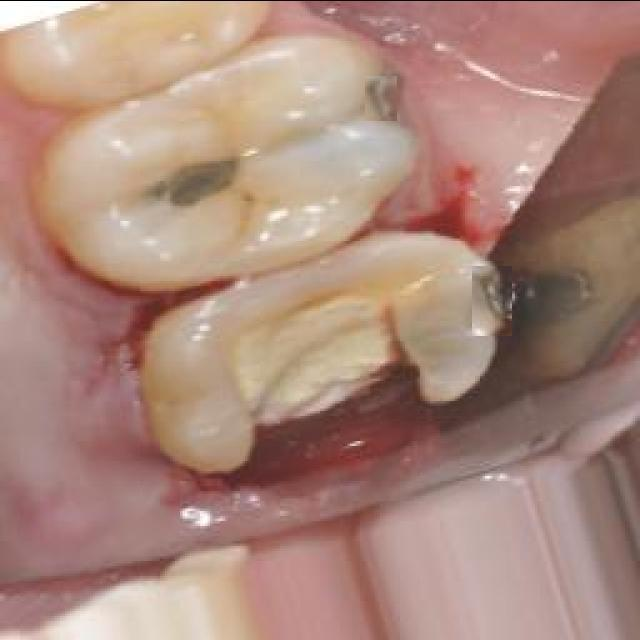decay: (240, 303, 415, 463), (155, 150, 233, 215), (473, 265, 513, 335), (365, 75, 397, 120)
